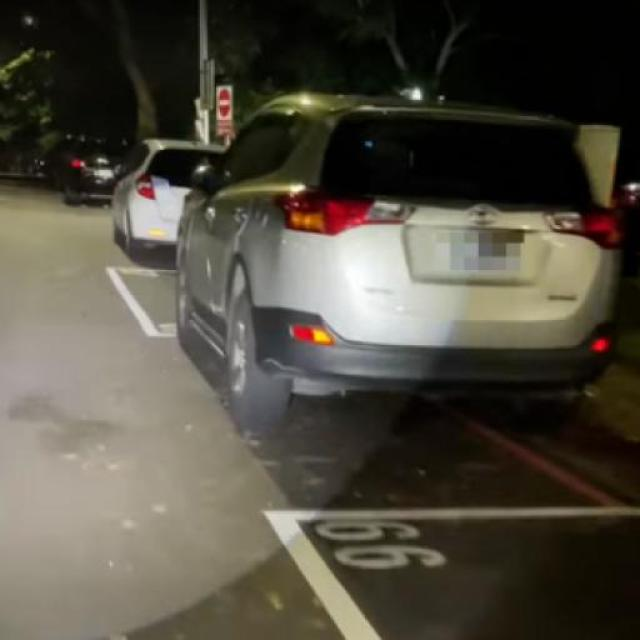Legalparking: (96, 80, 640, 500)
